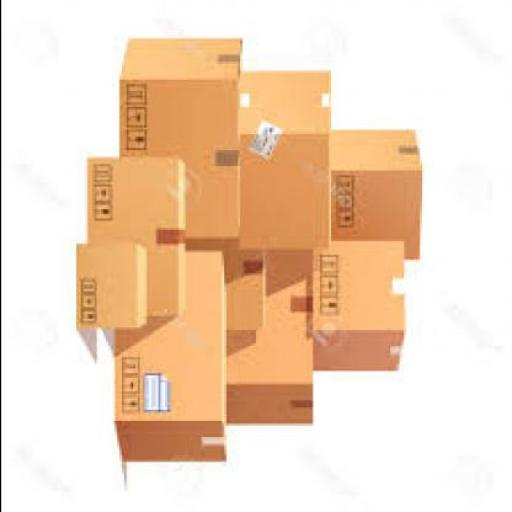cardboard: (118, 34, 246, 234), (116, 246, 230, 460), (88, 154, 190, 314), (226, 246, 316, 424), (246, 68, 332, 248), (330, 127, 423, 257), (314, 237, 405, 369), (77, 242, 148, 328), (224, 242, 266, 328)
